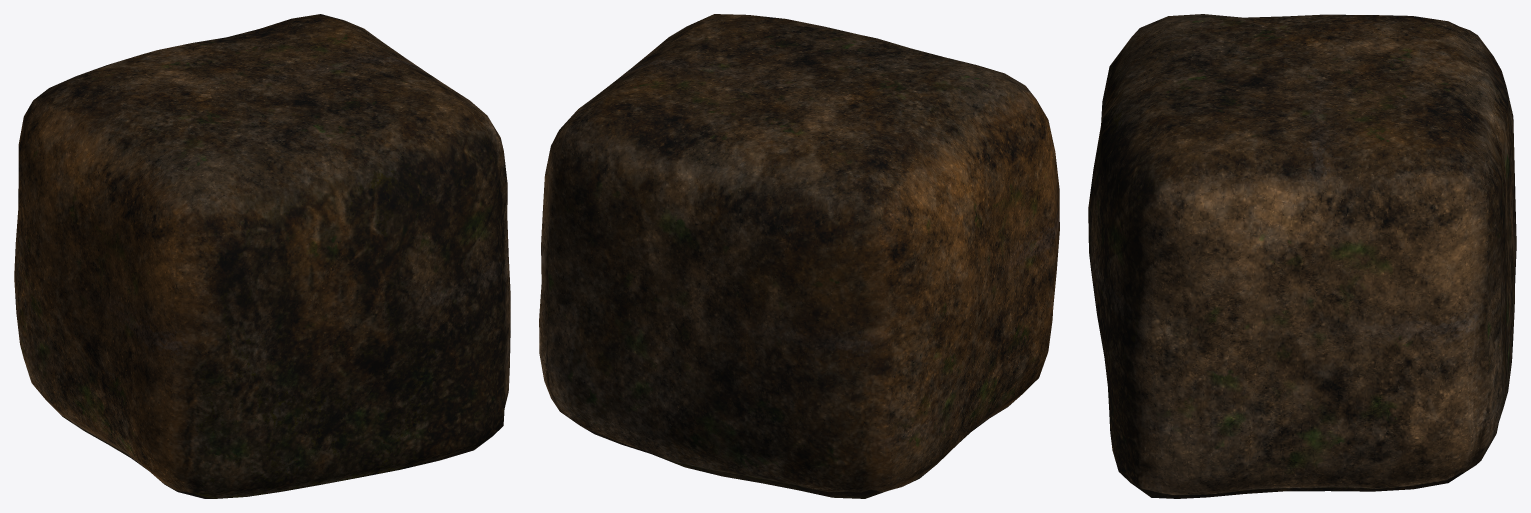
Rendered from SM_TI_RockBlock_2.fbx.
3 views of the same model, side by side, from view 1: azimuth 30°, elevation 25°; view 2: azimuth 150°, elevation 25°; view 3: azimuth 270°, elevation 25° (orthographic). The views are drawn at different scales.
Parts seen in each view (by area): view 1: SM_TI_RockBlock_2; view 2: SM_TI_RockBlock_2; view 3: SM_TI_RockBlock_2.
Boxes of the visible parts, bbox=[...] form: SM_TI_RockBlock_2: bbox=[14, 14, 510, 498]; SM_TI_RockBlock_2: bbox=[539, 14, 1059, 498]; SM_TI_RockBlock_2: bbox=[1088, 14, 1516, 498].
Size of the model in its own units: 9.94 by 9.28 by 8.41.
